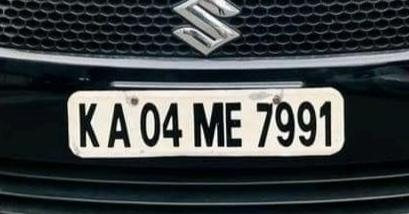0: (137, 101, 161, 148)
1: (318, 97, 334, 149)
4: (161, 102, 186, 148)
7: (253, 98, 274, 152)
9: (274, 97, 296, 149), (296, 98, 318, 149)
A: (107, 101, 134, 150)
E: (225, 99, 245, 149)
K: (75, 99, 102, 149)
M: (192, 99, 225, 149)
